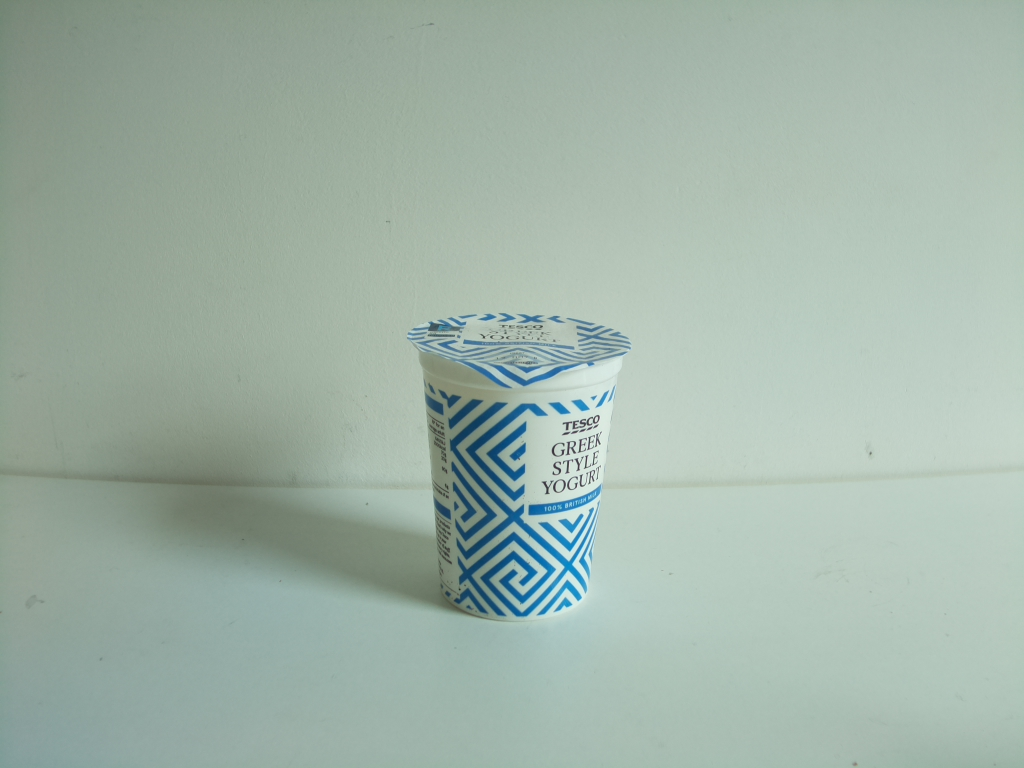yogurt: (408, 310, 629, 626)
